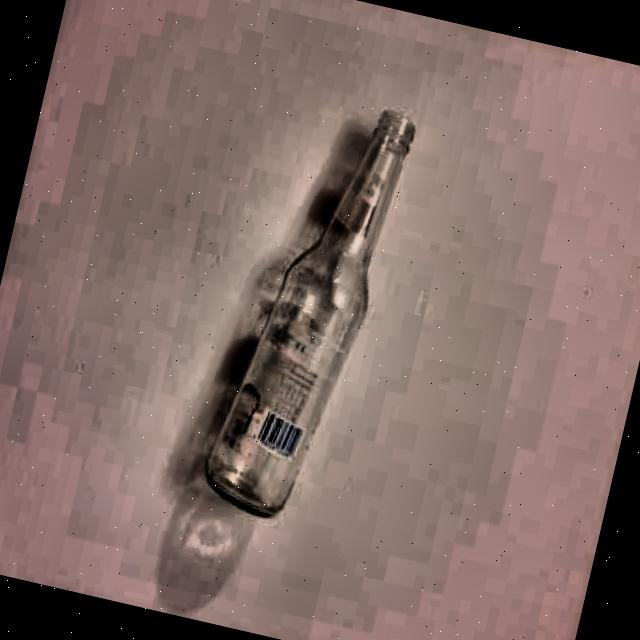glass: (194, 82, 422, 532)
